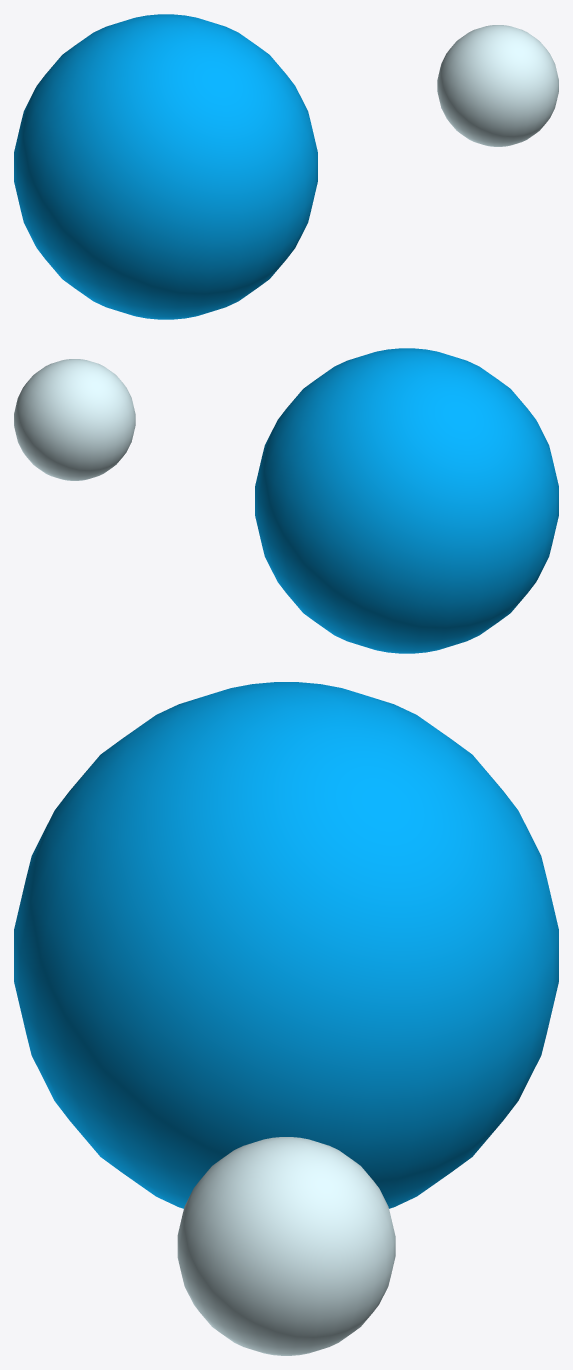
File: Hydrogen_animation.gltf
3 renders of one model, top to bottom at view 1: azimuth 30°, elevation 25°; view 2: azimuth 150°, elevation 25°; view 3: azimuth 270°, elevation 25°, orthographic. The views are drawn at different scales.
Parts seen in each view (by area): view 1: Sphere, Sphere.001; view 2: Sphere, Sphere.001; view 3: Sphere, Sphere.001.
Part boxes in pixels (bbox=[...]): Sphere: bbox=[14, 14, 317, 319]; Sphere.001: bbox=[437, 25, 558, 146]; Sphere: bbox=[255, 348, 558, 653]; Sphere.001: bbox=[14, 359, 135, 480]; Sphere: bbox=[14, 682, 558, 1208]; Sphere.001: bbox=[177, 1137, 395, 1355].
Size of the model in its own units: 3.89 by 2 by 1.99.
